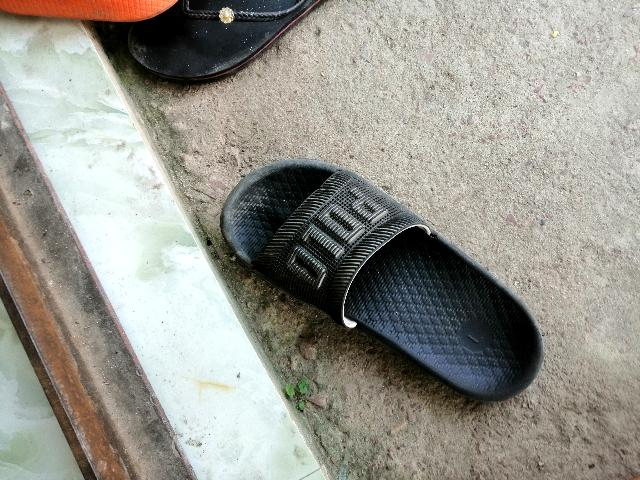sandal: (192, 115, 572, 438)
